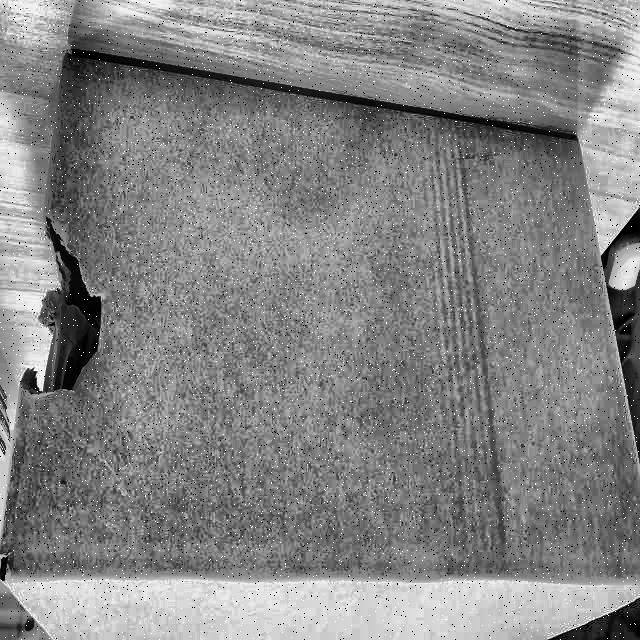box: (0, 45, 639, 640)
hole: (15, 238, 107, 420)
